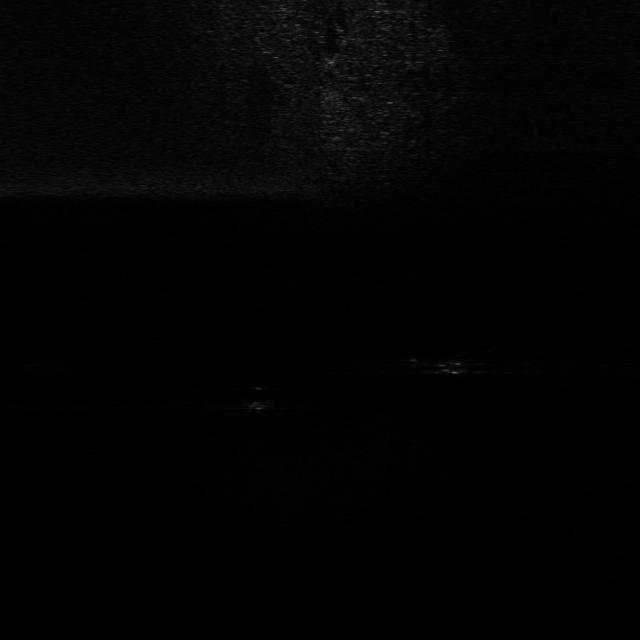ball: (237, 378, 281, 411)
human body: (388, 345, 484, 382)
